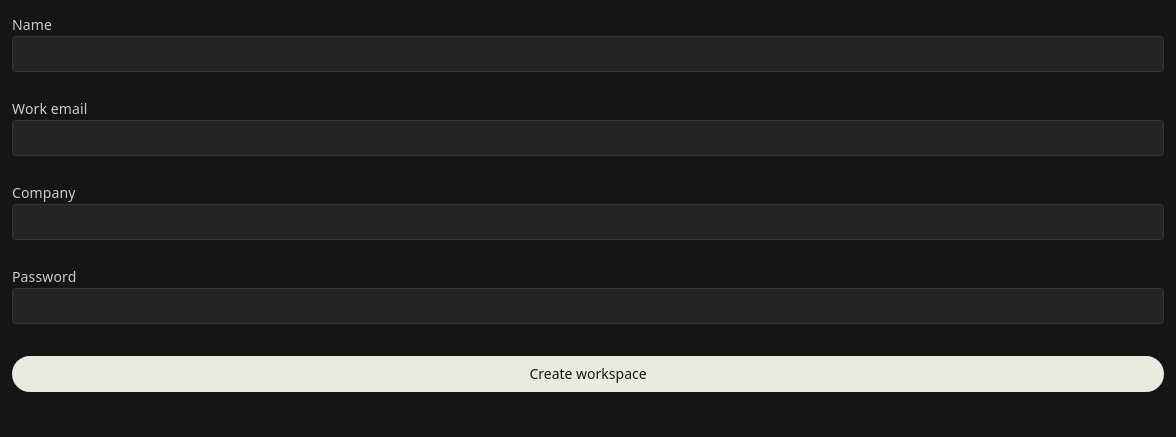
SignupForm › shows a field error next to the offending field
This screenshot has width=1176, height=437.
Type "Ada Speke" into the field labelled "Name" at (588, 54), box [12, 36, 1164, 72]
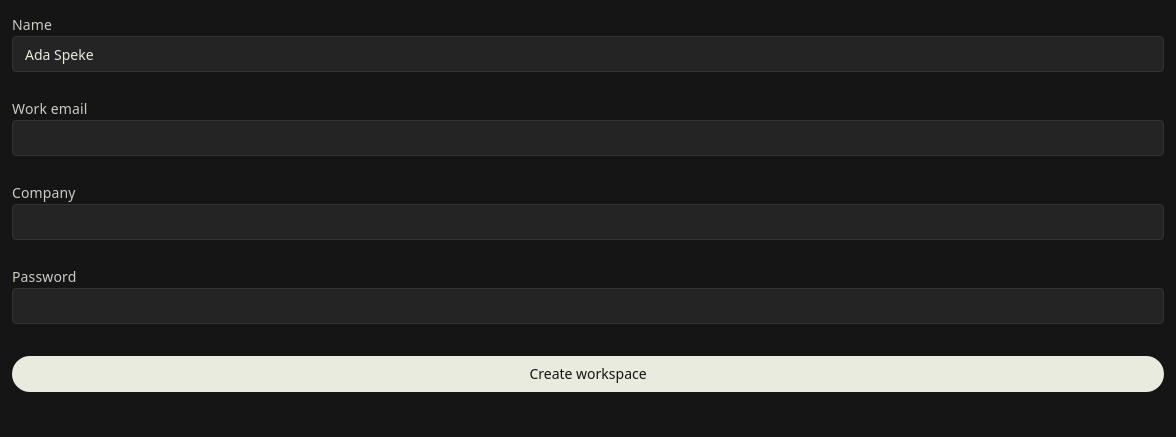
Type "ada@wexley.example" into the field labelled "Work email" at (588, 138), box [12, 120, 1164, 156]
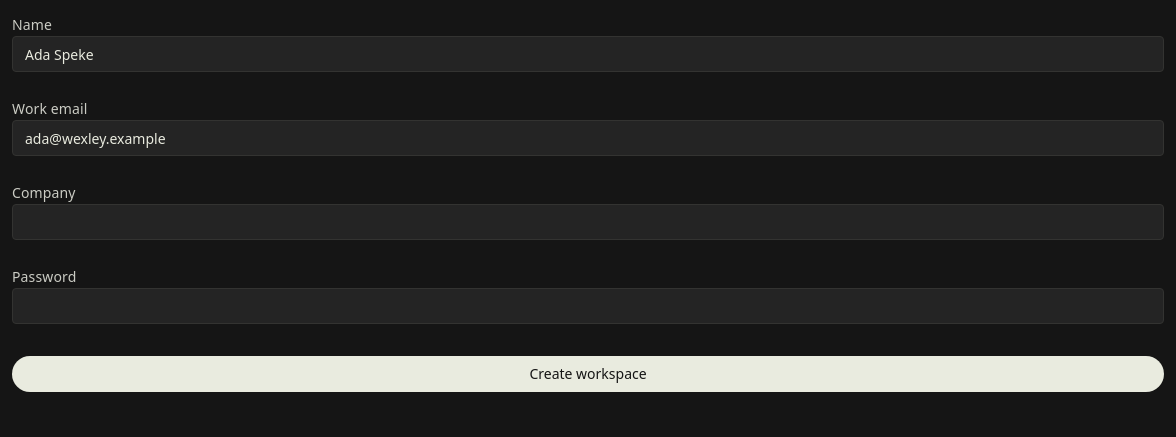
Type "Wexley" into the field labelled "Company" at (588, 222), box [12, 204, 1164, 240]
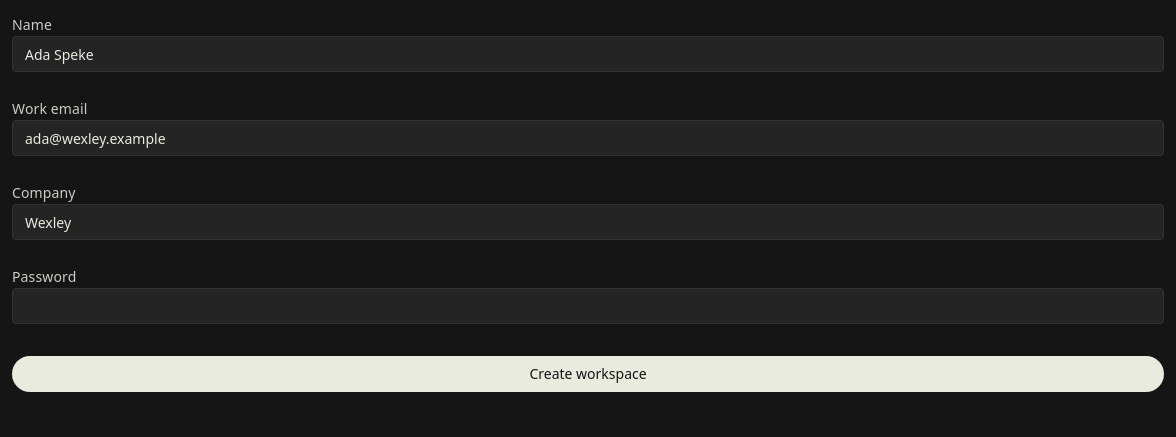
Type "correct-horse-1!" into the password field labelled "Password" at (588, 306), box [12, 288, 1164, 324]
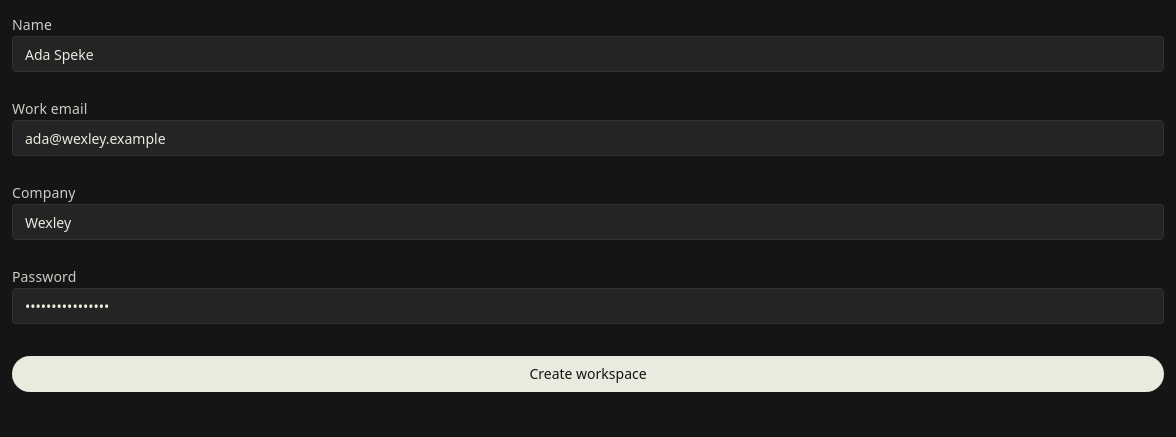
Click the button "Create workspace" at (588, 374), box [12, 356, 1164, 392]
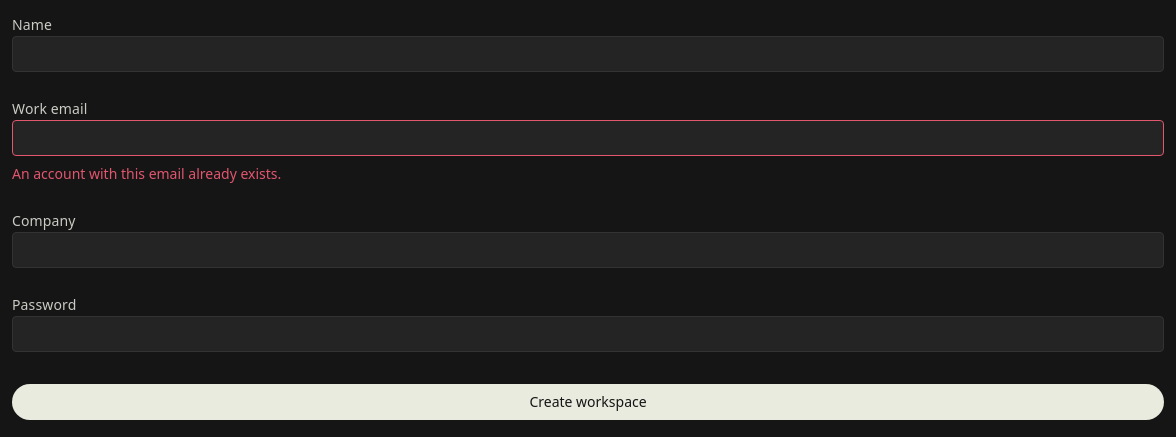
Now the text "An account with this email already exists." is shown, box [12, 164, 281, 183]
